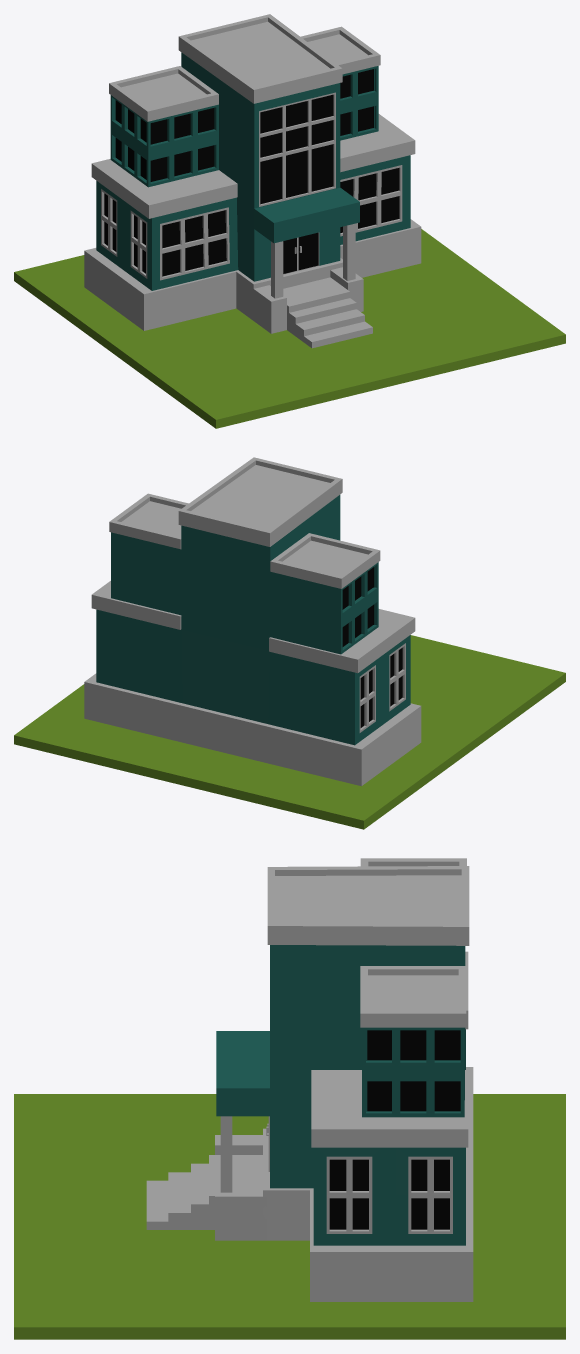
Rendered from bank.fbx.
The picture shows the model from 3 angles, top to bottom: view 1: azimuth 30°, elevation 25°; view 2: azimuth 150°, elevation 25°; view 3: azimuth 270°, elevation 25°; orthographic projection. The views are drawn at different scales.
Parts seen in each view (by area): view 1: Text_Material.001_0, Text_Material.004_0, Text_Material.003_0, Text_Material.002_0; view 2: Text_Material.003_0, Text_Material.001_0, Text_Material.004_0, Text_Material.002_0; view 3: Text_Material.004_0, Text_Material.001_0, Text_Material.003_0, Text_Material.002_0.
Part boxes in pixels (left/top/right/bottom): Text_Material.001_0: left=84, top=14, right=421, bottom=348; Text_Material.004_0: left=14, top=229, right=565, bottom=428; Text_Material.003_0: left=96, top=52, right=410, bottom=290; Text_Material.002_0: left=104, top=69, right=399, bottom=276; Text_Material.003_0: left=96, top=495, right=410, bottom=745; Text_Material.001_0: left=84, top=457, right=421, bottom=786; Text_Material.004_0: left=14, top=635, right=565, bottom=829; Text_Material.002_0: left=342, top=567, right=402, bottom=727; Text_Material.004_0: left=14, top=1094, right=565, bottom=1339; Text_Material.001_0: left=146, top=858, right=473, bottom=1301; Text_Material.003_0: left=216, top=945, right=465, bottom=1245; Text_Material.002_0: left=329, top=1030, right=460, bottom=1229.
Size of the model in its own units: 53.27 by 34.76 by 53.27.
